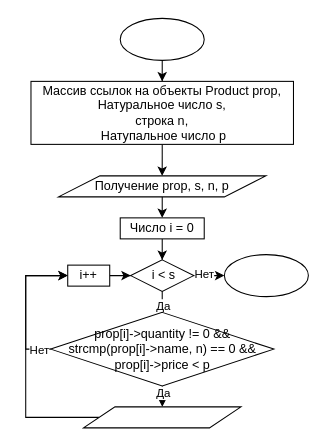
Some shapes in this 328 by 446 pixel diagram are drawn without their labels. Each missing label, with the centre of its shape:
"Вывод prop[i]->shop" belongs at point (161, 417).
"Конец" belongs at point (265, 275).
"Начало" belongs at point (161, 38).
